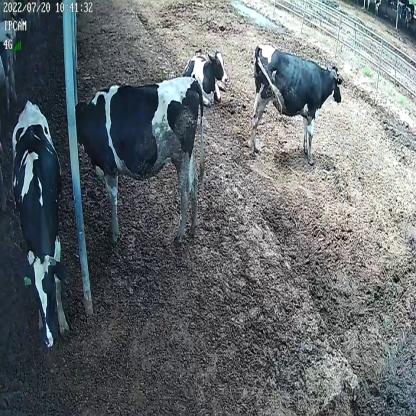cow: (75, 77, 205, 245), (11, 101, 70, 351), (248, 39, 343, 160), (182, 46, 229, 108)
